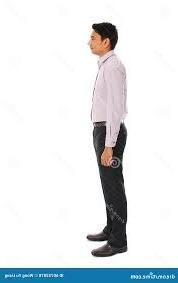Human: (73, 17, 150, 264)
